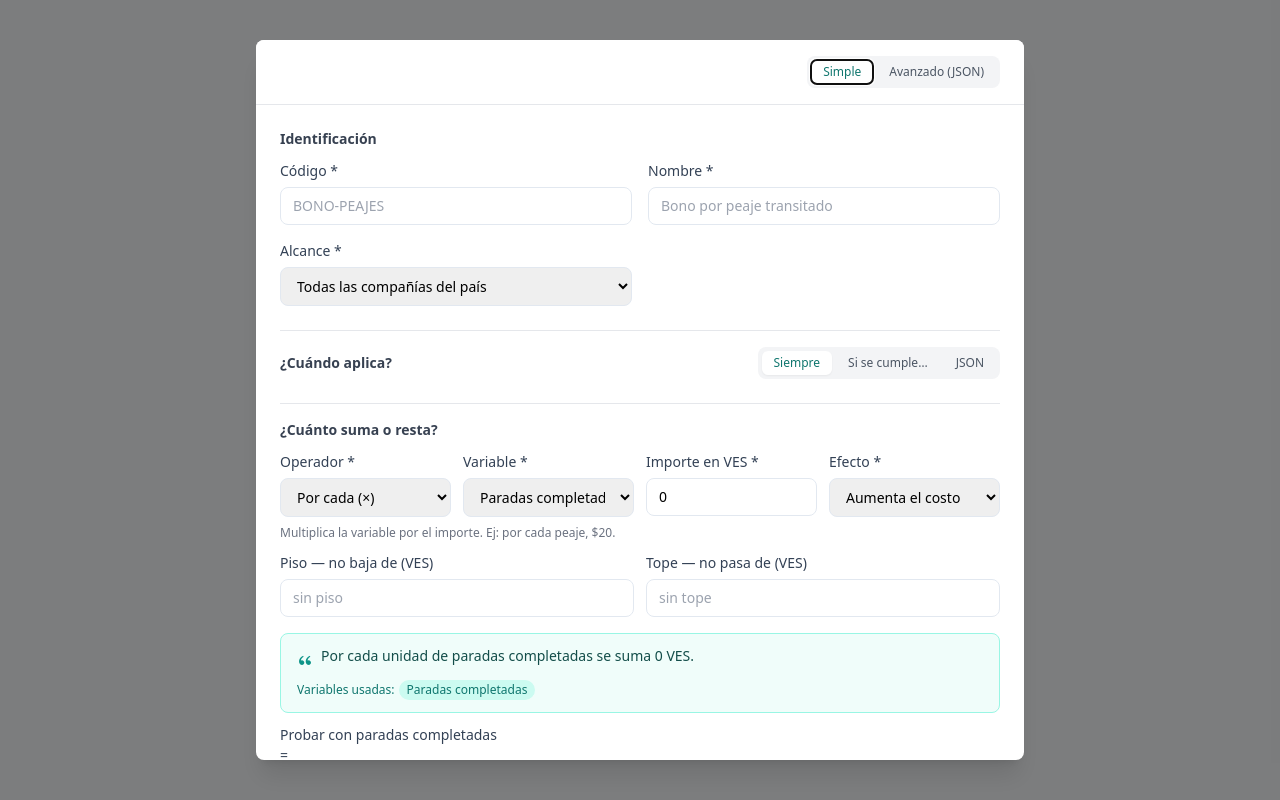
Test: RuleModal (caracterización) › condiciones: modo "Si se cumple…" con una y con dos filas, y los operadores IN y BETWEEN
Click the button "Si se cumple…" at (888, 363), box [836, 351, 940, 375]
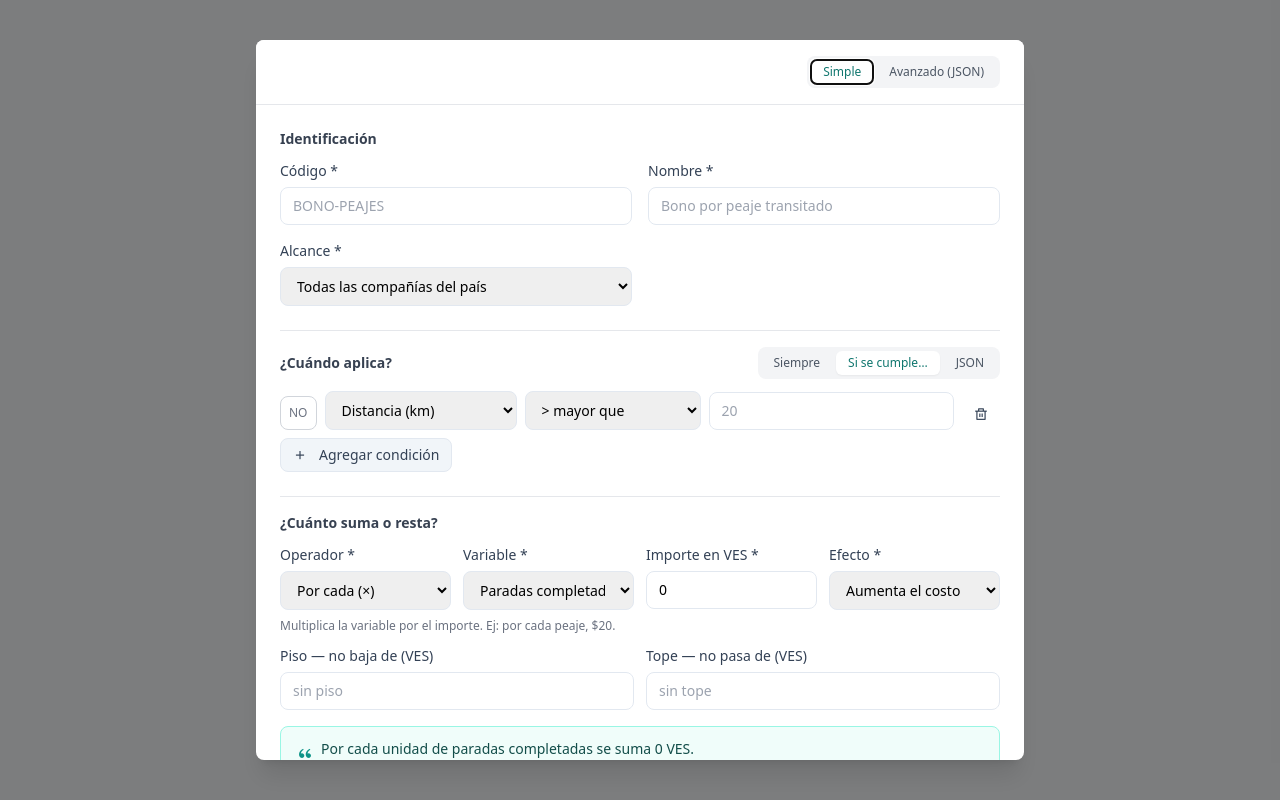
Click the button "Agregar condición" at (366, 455), box [280, 438, 452, 472]
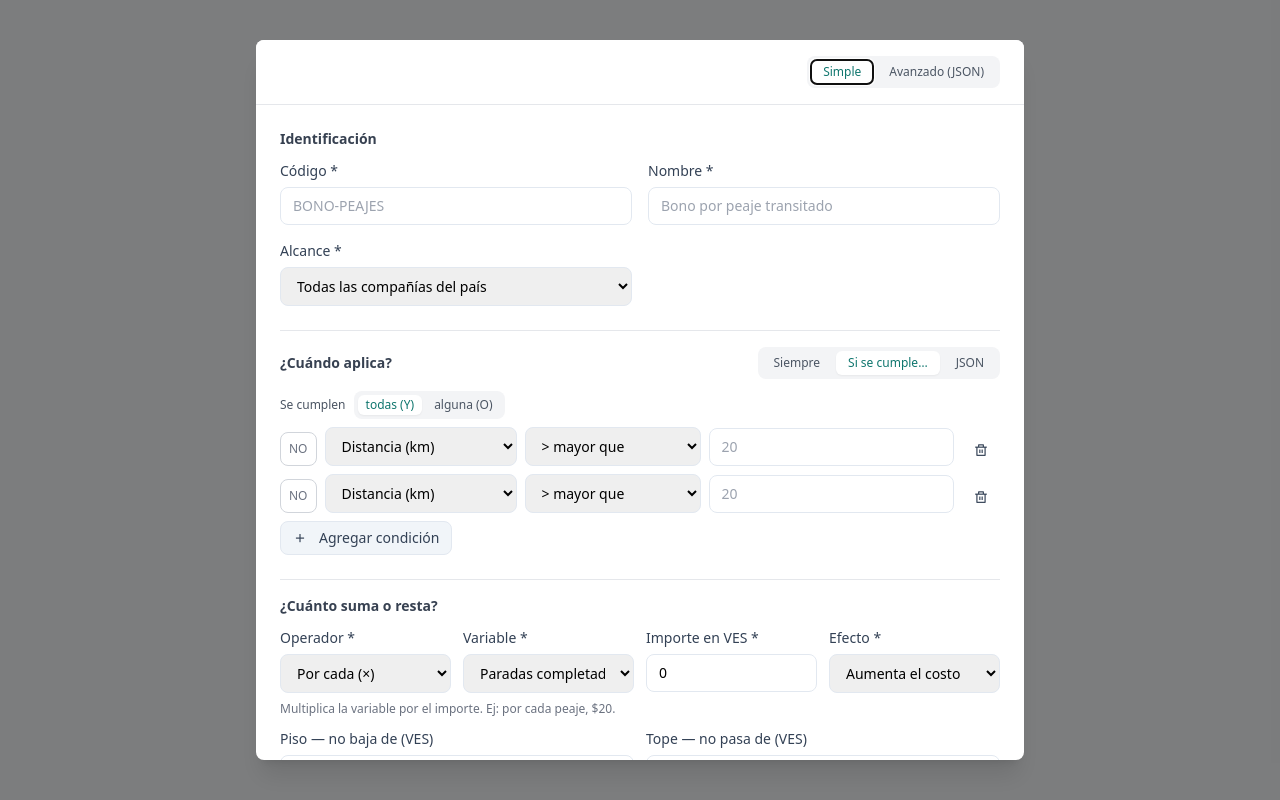
Check: the text "Se cumplen" is shown, box [280, 397, 346, 413]
Click the button "alguna (O)" at (463, 405), box [426, 395, 501, 415]
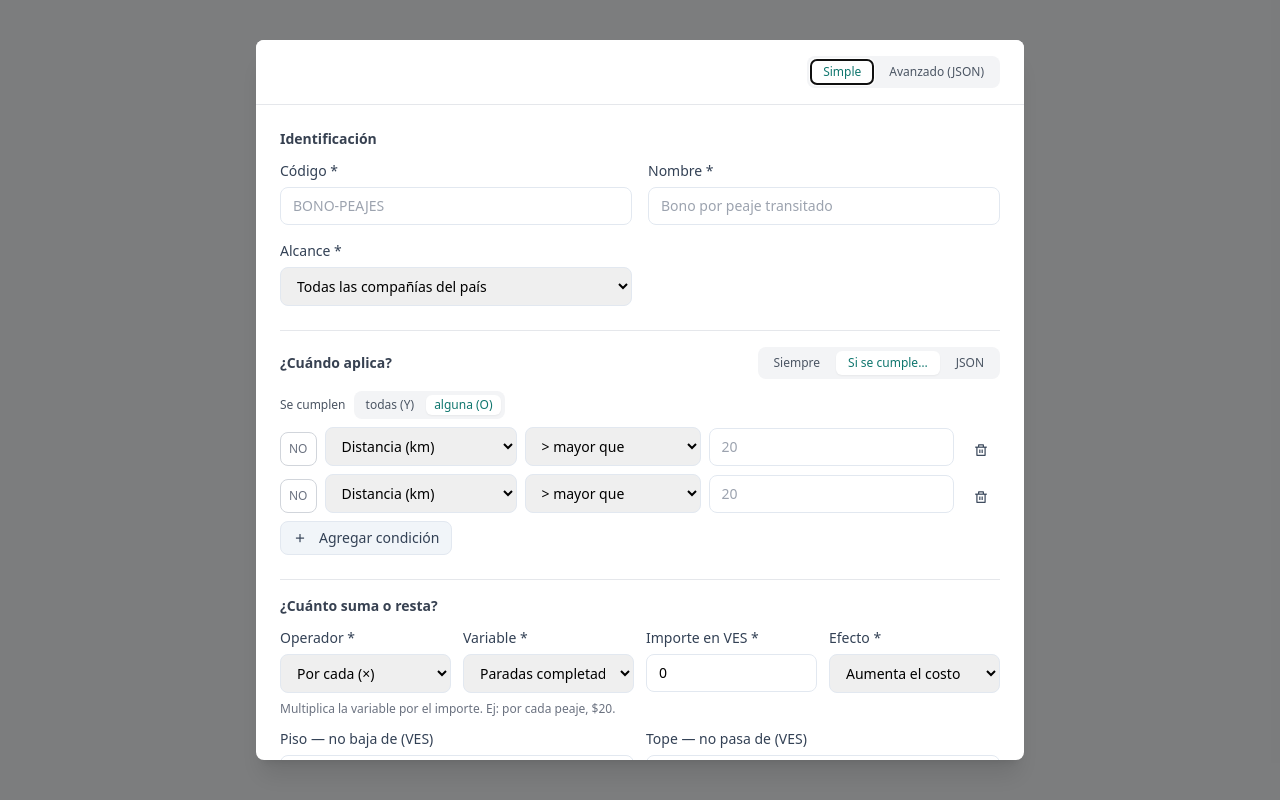
Click the 1st button titled "Negar esta condición" at (298, 449), box [280, 432, 316, 466]
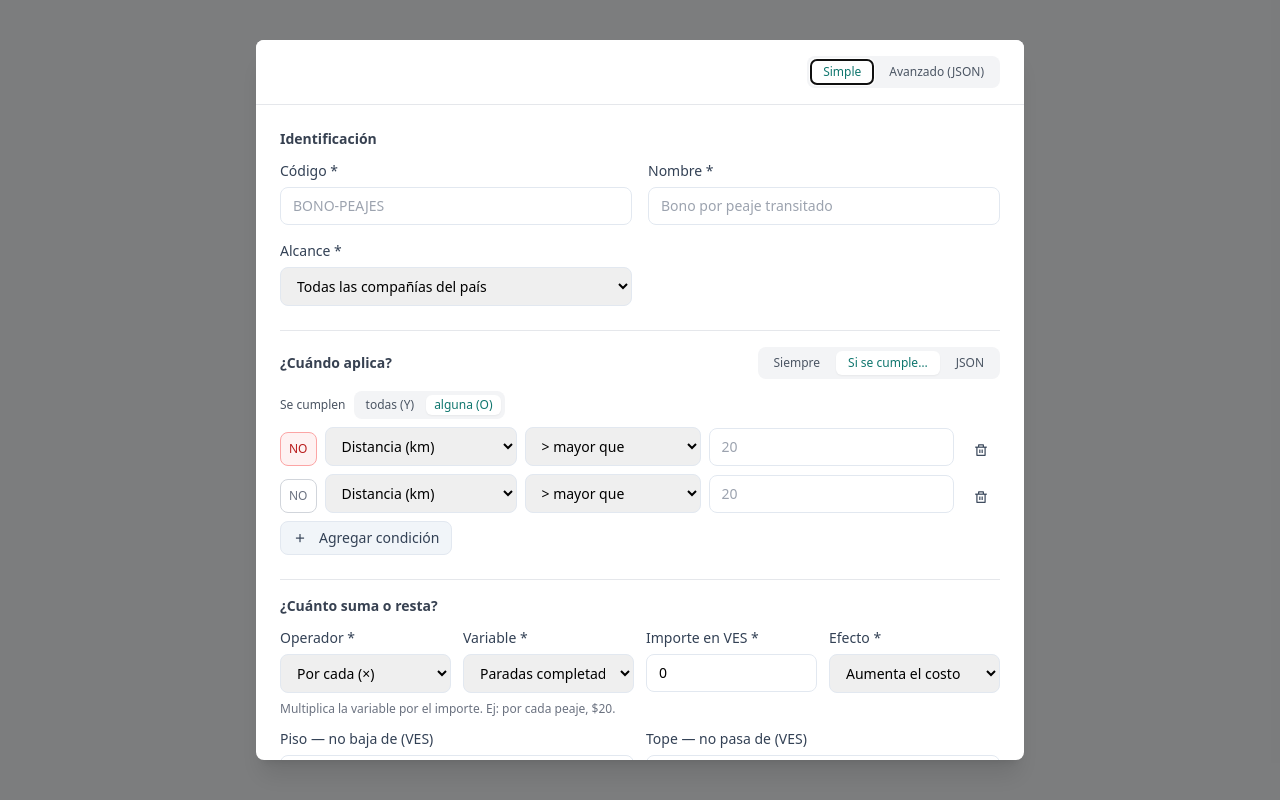
Select "está entre" in the 3rd dropdown at (612, 446), box [524, 427, 700, 466]
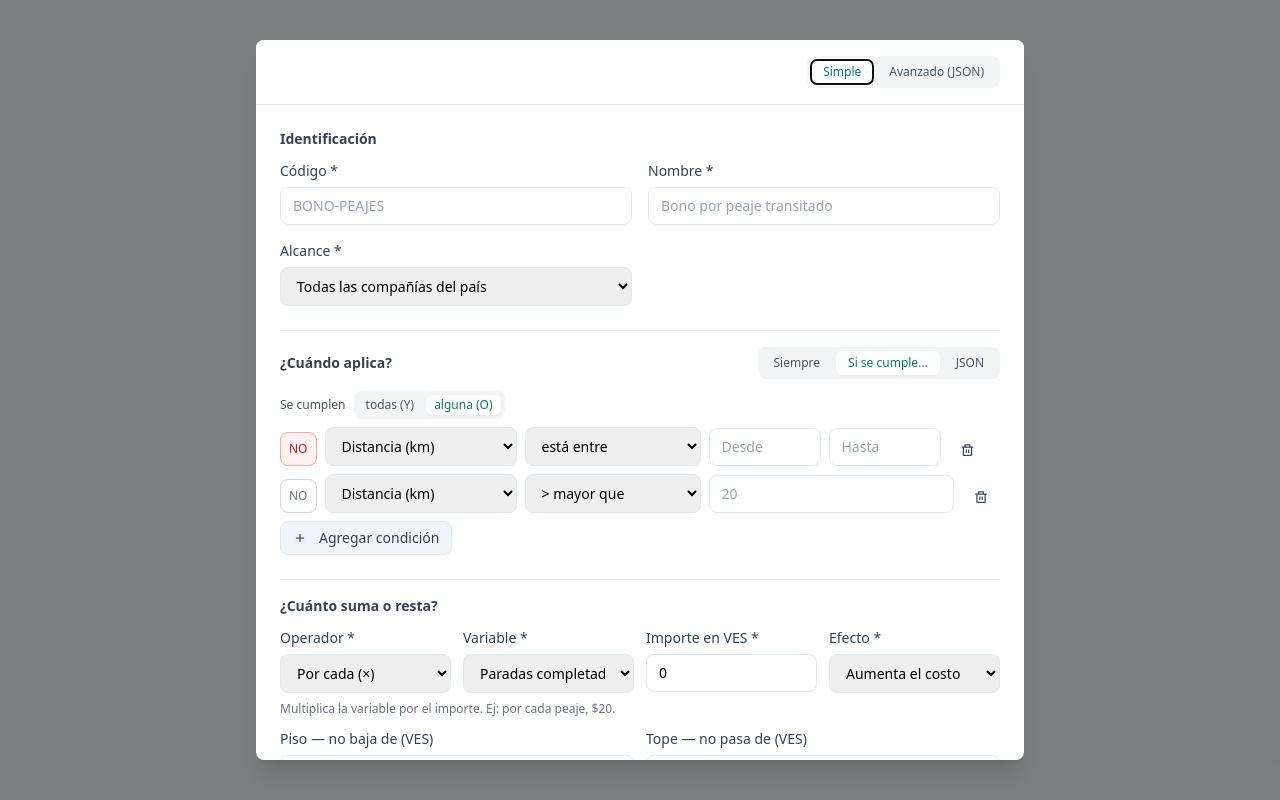
Check: the field with placeholder "Desde" is shown, box [708, 428, 820, 466]
Select "está en la lista" in the 3rd dropdown at (612, 446), box [524, 427, 700, 466]
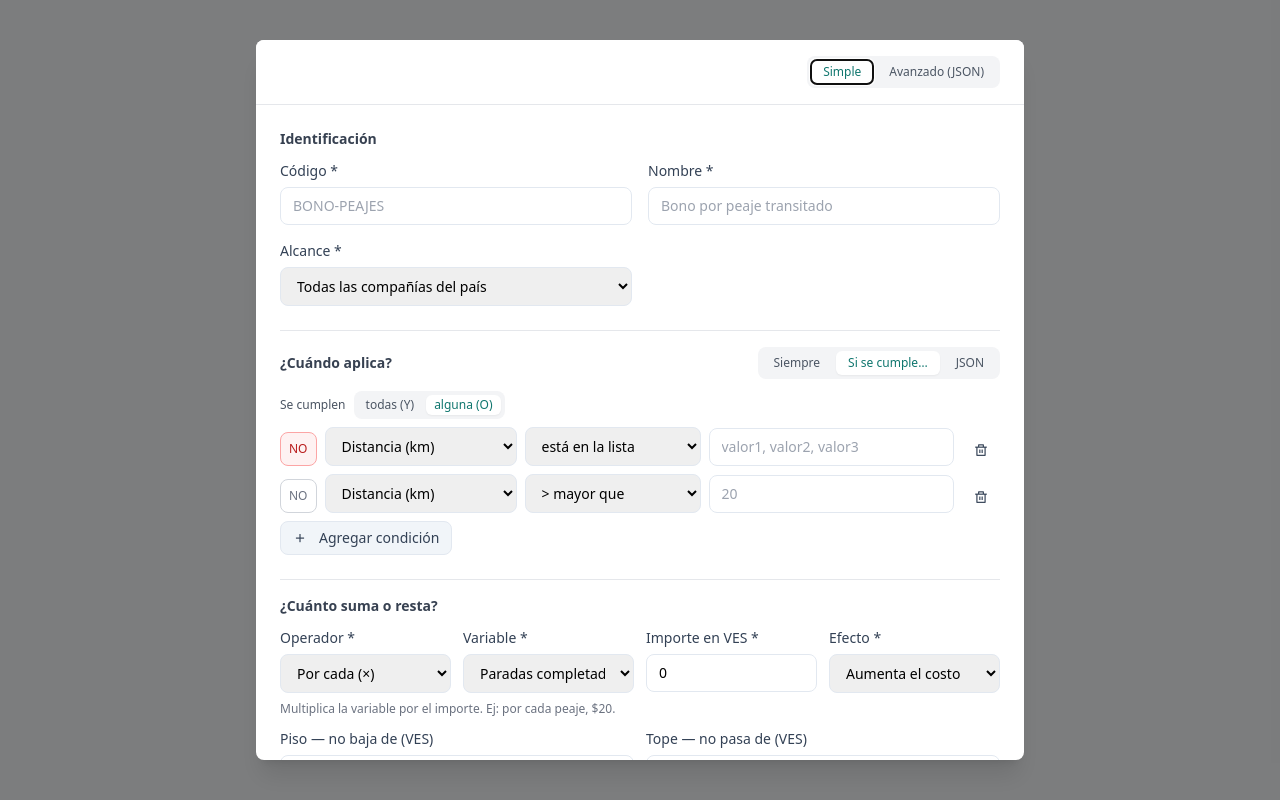
Check: the field with placeholder "valor1, valor2, valor3" is shown, box [708, 428, 954, 466]
